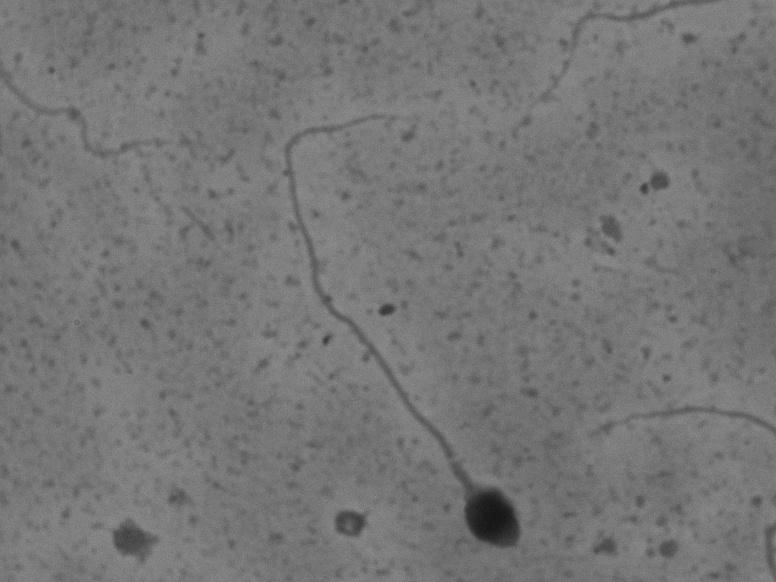Abnormal: (272, 100, 533, 566)
